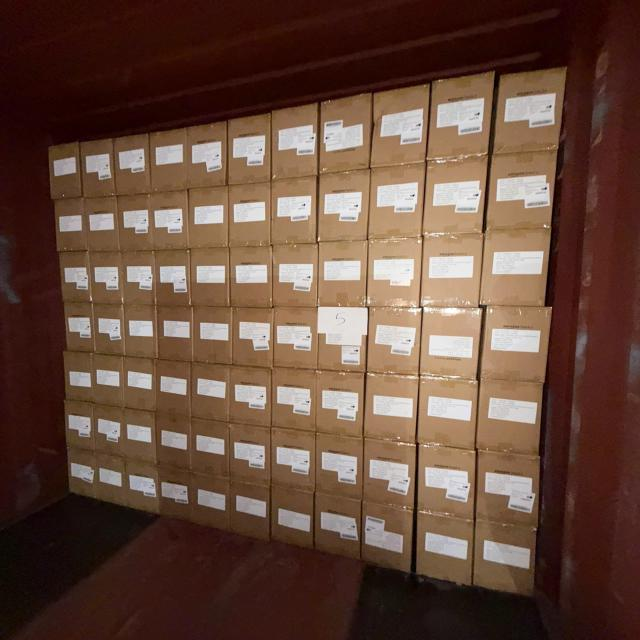Carton: (496, 71, 569, 155), (428, 76, 493, 162), (482, 228, 552, 306), (489, 154, 558, 233), (486, 306, 554, 384), (422, 160, 488, 239), (474, 522, 538, 602), (478, 381, 545, 456), (477, 449, 541, 527), (369, 86, 427, 167), (416, 444, 476, 522), (420, 307, 481, 381), (421, 236, 482, 310), (419, 378, 478, 452), (368, 167, 423, 244), (414, 518, 472, 591), (320, 95, 372, 175), (366, 239, 422, 310), (360, 500, 412, 574), (362, 374, 416, 445), (320, 171, 372, 244), (365, 306, 419, 376), (362, 439, 414, 511), (272, 104, 320, 179), (318, 306, 368, 374), (320, 241, 370, 309), (317, 432, 365, 502), (316, 496, 364, 564), (271, 175, 317, 245), (317, 371, 365, 438), (272, 245, 319, 310), (271, 365, 318, 430), (229, 116, 273, 184), (270, 430, 316, 494), (270, 486, 314, 552), (274, 308, 318, 372), (230, 184, 273, 247), (193, 470, 234, 535), (228, 367, 270, 430), (232, 248, 274, 310), (189, 123, 229, 188), (228, 426, 269, 487), (190, 186, 230, 248), (234, 309, 274, 370), (191, 249, 231, 309), (192, 416, 232, 475), (229, 483, 269, 542), (192, 360, 231, 420), (150, 128, 187, 191), (194, 308, 234, 366), (115, 134, 152, 195), (93, 450, 131, 509), (64, 444, 98, 506), (152, 191, 188, 249), (157, 307, 193, 364), (159, 358, 194, 416), (159, 250, 193, 309), (154, 413, 190, 468), (126, 460, 160, 518), (160, 469, 196, 523), (119, 194, 152, 252), (80, 138, 113, 196), (122, 252, 156, 307), (50, 142, 82, 198), (86, 198, 119, 252), (125, 409, 158, 463), (125, 356, 158, 409), (89, 253, 122, 306), (125, 307, 158, 359), (55, 198, 86, 252), (92, 306, 123, 358), (61, 252, 92, 304), (92, 353, 123, 404), (64, 402, 95, 451), (64, 305, 94, 355), (92, 406, 122, 455), (64, 352, 92, 403)
